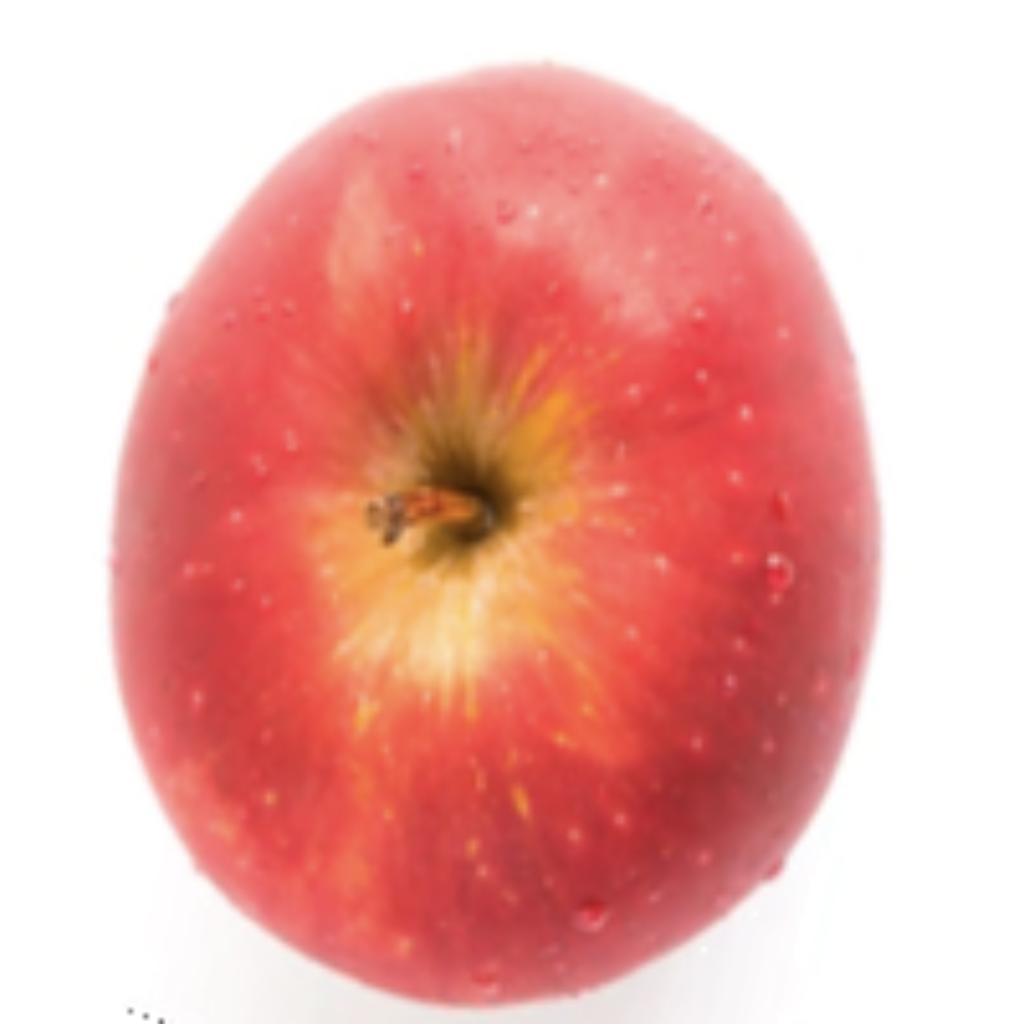apple: (97, 51, 891, 1019)
